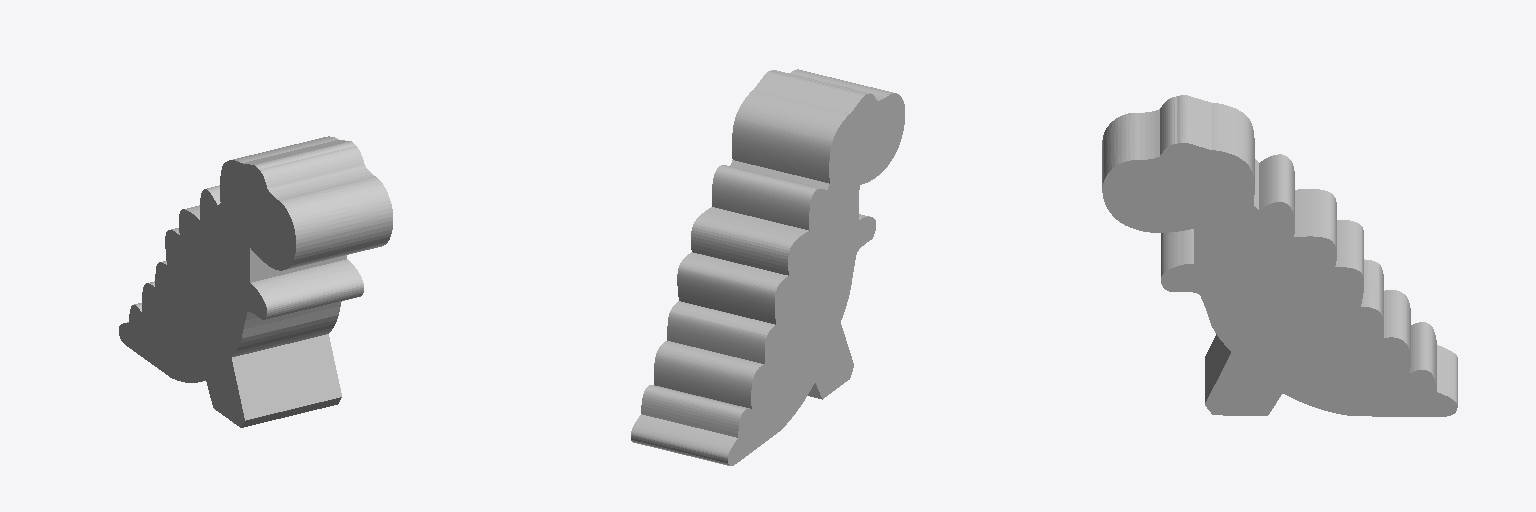
File: dinoRojo.obj
3 views of the same model, side by side, from view 1: azimuth 30°, elevation 25°; view 2: azimuth 150°, elevation 25°; view 3: azimuth 270°, elevation 25° (orthographic).
Parts seen in each view (by area): view 1: dino6-rojo; view 2: dino6-rojo; view 3: dino6-rojo.
Boxes of the visible parts, <box> form: dino6-rojo: <box>119,136,392,427</box>; dino6-rojo: <box>631,69,904,465</box>; dino6-rojo: <box>1102,95,1457,416</box>.
Bounding box in the file's own units: 3.2 × 8.63 × 10.13.